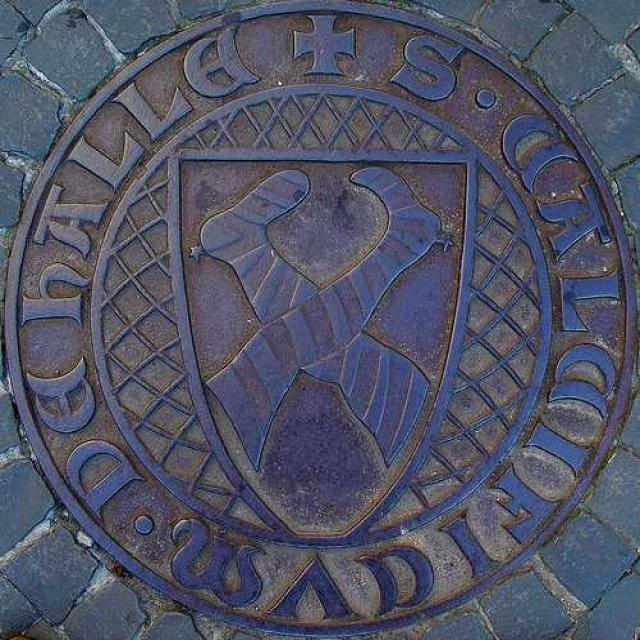manhole: (5, 3, 636, 634)
